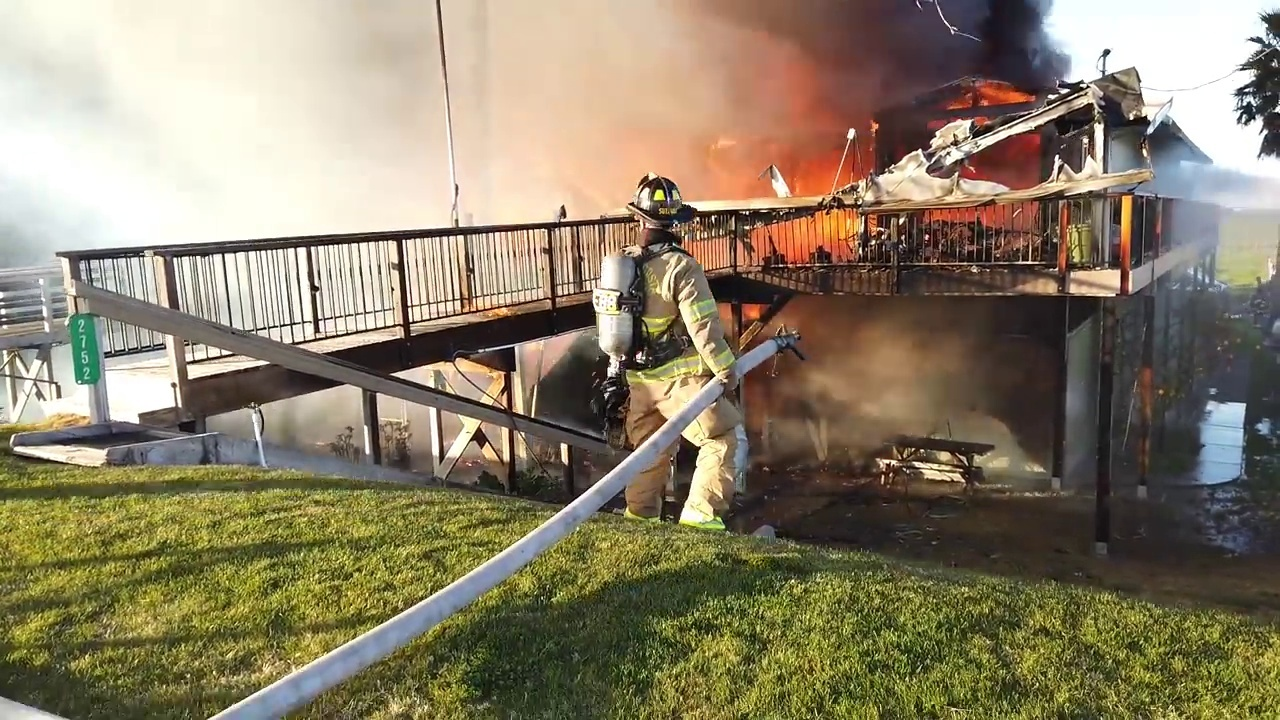fire: (708, 149, 869, 262), (940, 74, 1034, 111)
smoke: (1, 1, 1083, 150), (798, 309, 1058, 475), (1, 149, 623, 211), (518, 345, 597, 425), (278, 399, 364, 469), (381, 398, 432, 474)
